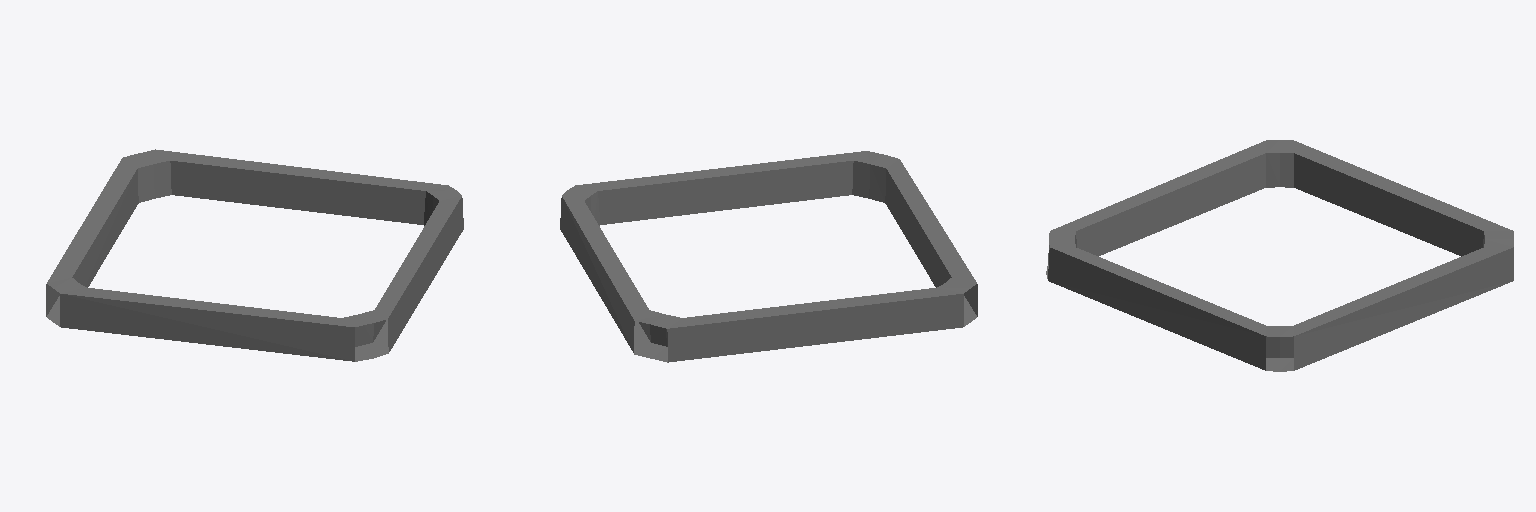
The model's file is pattern_diamond_wire_fence.obj.
The picture shows the model from 3 angles: view 1: azimuth 30°, elevation 25°; view 2: azimuth 150°, elevation 25°; view 3: azimuth 270°, elevation 25°; orthographic projection.
Parts seen in each view (by area): view 1: pattern_diamond_wire_fence; view 2: pattern_diamond_wire_fence; view 3: pattern_diamond_wire_fence.
Part boxes in pixels (left/top/right/bottom): pattern_diamond_wire_fence: left=46, top=149, right=463, bottom=361; pattern_diamond_wire_fence: left=560, top=151, right=977, bottom=362; pattern_diamond_wire_fence: left=1046, top=140, right=1513, bottom=371.
Size of the model in its own units: 4.16 by 0.3337 by 4.16.